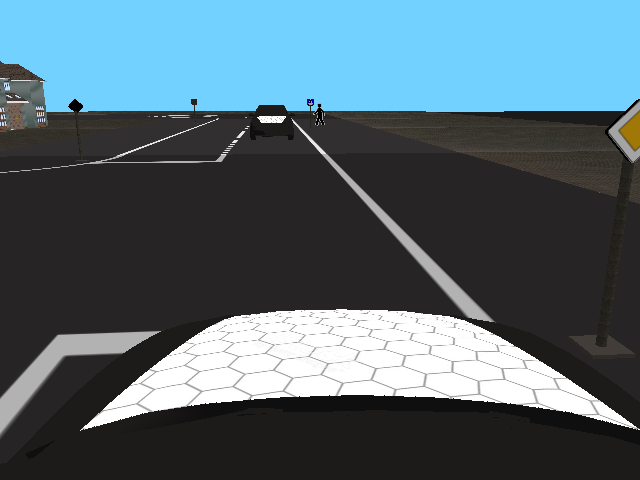priority: (606, 99, 640, 165)
